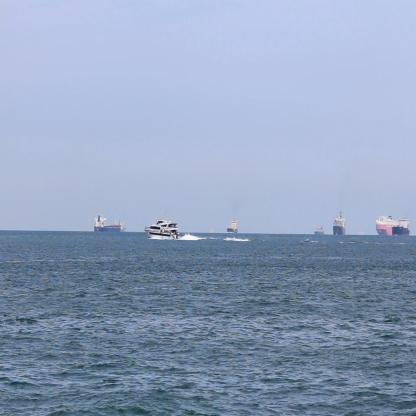Container Ship: (94, 212, 129, 234), (377, 215, 413, 236), (333, 207, 347, 238), (394, 219, 416, 237), (226, 214, 242, 233), (316, 220, 328, 236)
